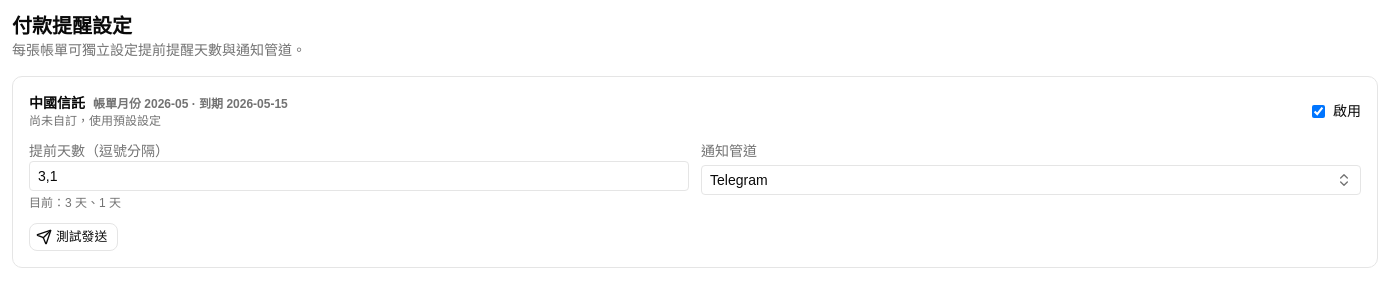
Scenario: SettingsRemindersPage › test push button shows detail on success
Click the button "測試發送": x=74, y=237 [29,223,118,251]
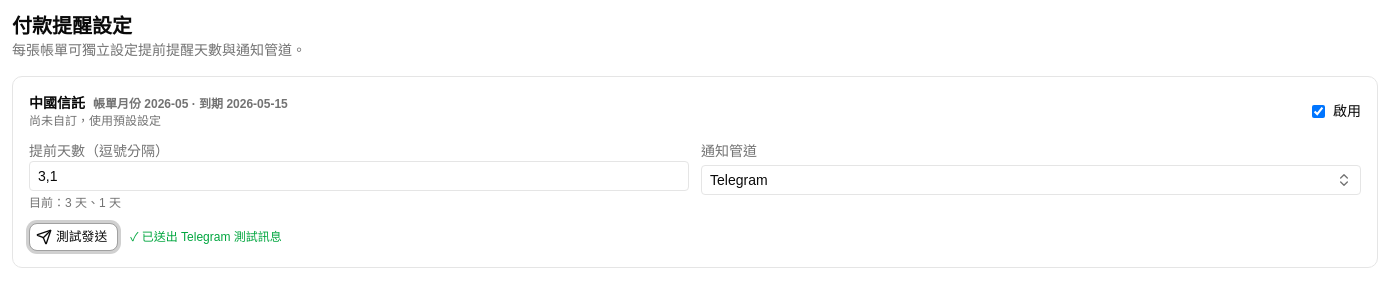
Now the text "✓ 已送出 Telegram 測試訊息" is shown, box [130,229,282,245]
